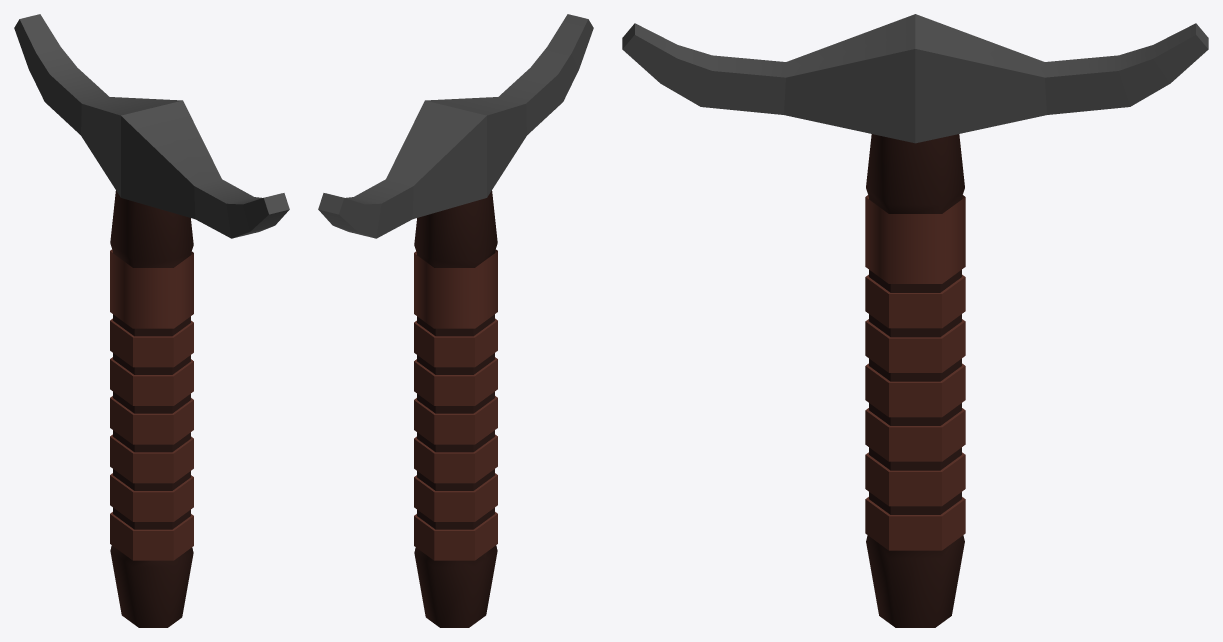
The model's file is Long Sword Chunky.004.glb.
3 renders of one model, left to right at view 1: azimuth 30°, elevation 25°; view 2: azimuth 150°, elevation 25°; view 3: azimuth 270°, elevation 25°, orthographic. The views are drawn at different scales.
Parts seen in each view (by area): view 1: Long Sword Chunky.004; view 2: Long Sword Chunky.004; view 3: Long Sword Chunky.004.
Part boxes in pixels (x1,y1,x2,y2): Long Sword Chunky.004: (14, 14, 289, 627); Long Sword Chunky.004: (318, 14, 593, 627); Long Sword Chunky.004: (622, 14, 1208, 627).
Bounding box in the file's own units: 0.0299 × 0.2345 × 0.2123.
